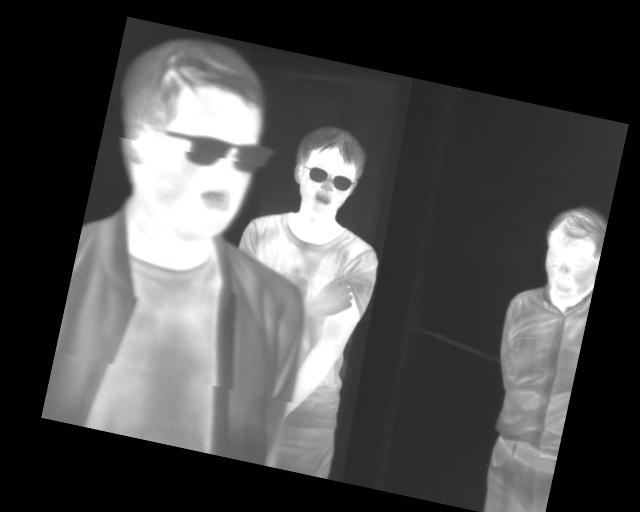face: (98, 24, 279, 246), (285, 119, 372, 224), (532, 198, 609, 305)
